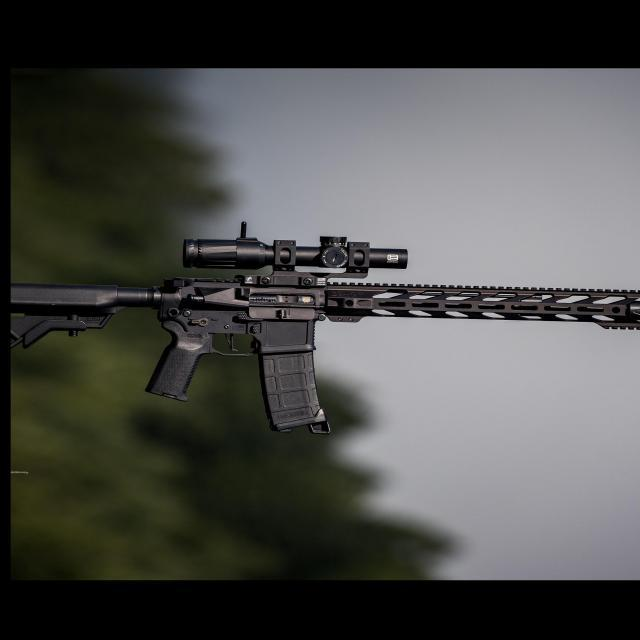weapon: (8, 221, 640, 437)
